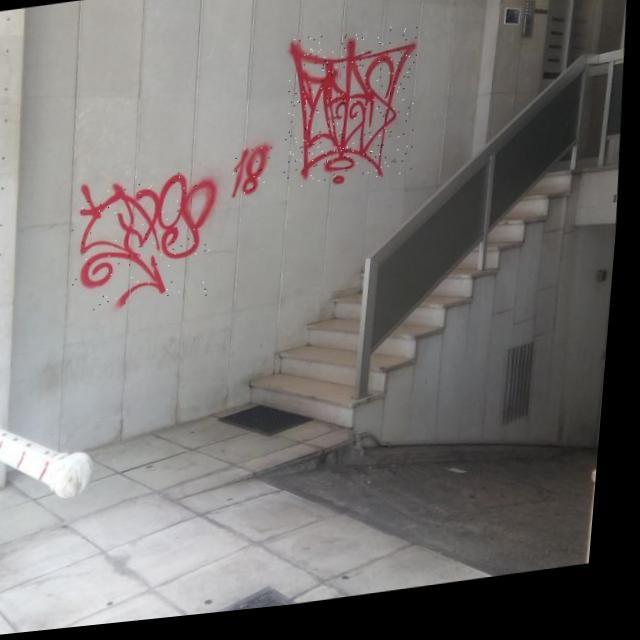-: (282, 30, 424, 196), (68, 168, 225, 316), (232, 151, 276, 202)
